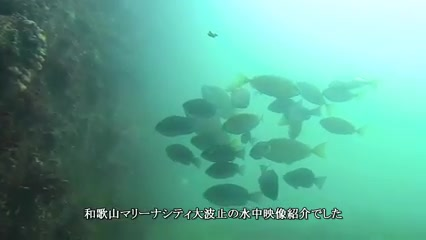smallfish: (266, 134, 340, 166), (233, 69, 301, 100), (199, 180, 260, 211), (278, 165, 337, 196), (319, 109, 374, 142), (204, 159, 263, 185), (162, 137, 204, 172), (219, 109, 269, 134)
